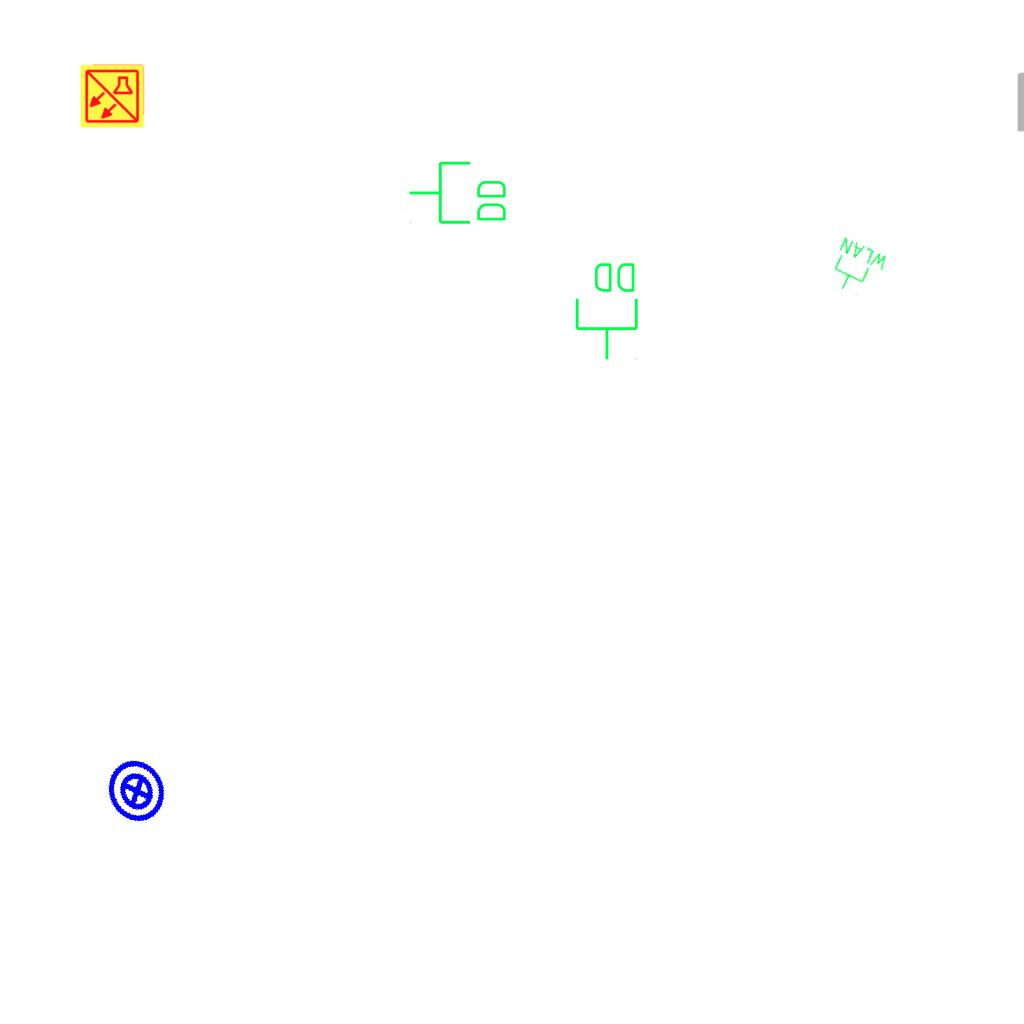Datenanschluss_zweifach: (573, 259, 642, 362), (407, 159, 510, 228)
OKW_Multisensormelder_(Kombination_optischer_Rauch-Kahlenmonoxid_Waerme-Melder): (79, 63, 145, 129)
Taster_beleuchtet: (94, 748, 180, 834)
WLAN: (822, 234, 892, 304)
